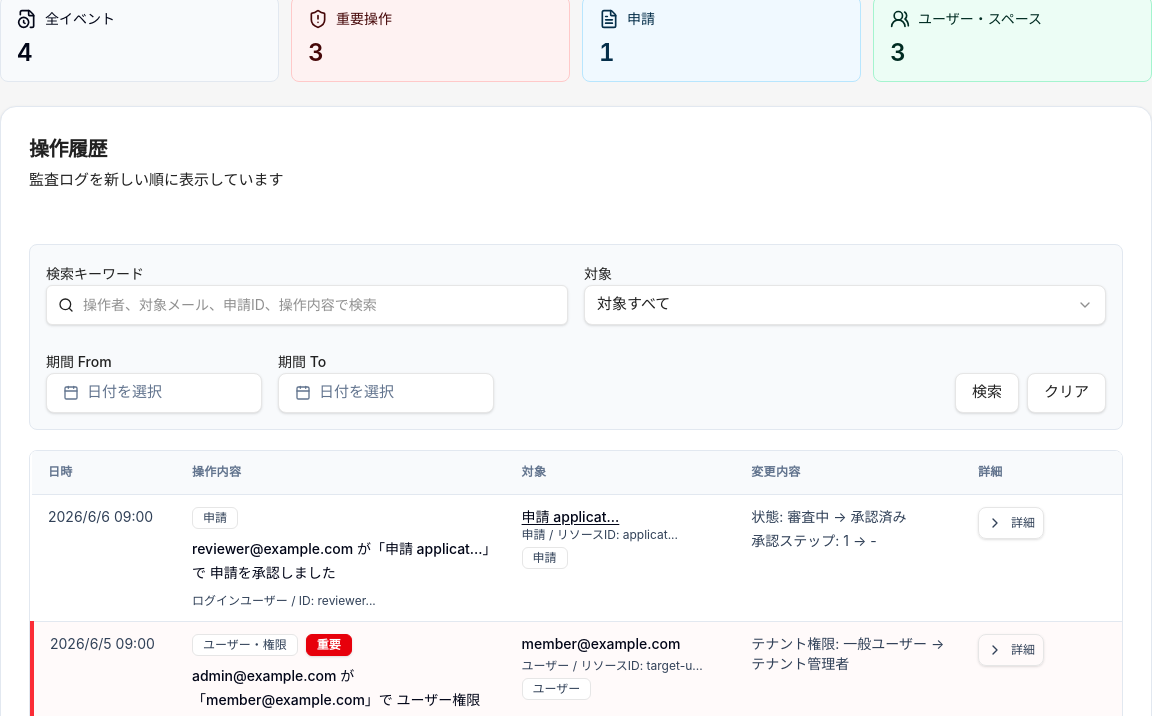
Test: AdminAuditLogsView › renders summary counts, filters, and business audit rows
This screenshot has width=1152, height=716.
Expected: the text "全イベント" is shown, [17, 9, 115, 29]
Expected: the text "重要操作" is shown, [308, 9, 392, 29]
Click the button with aria-label "申請 applicat... の詳細を表示" at (1011,523), box [978, 507, 1044, 539]
(page scrolled)
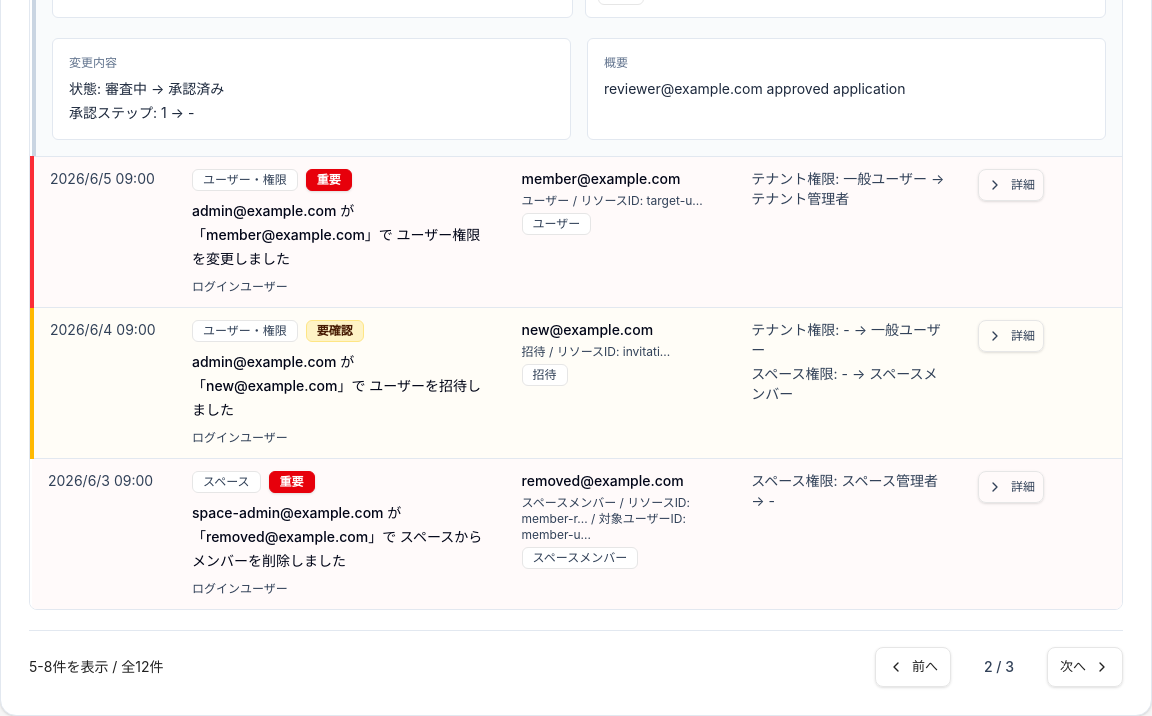
Expected: the text "テナント権限: 一般ユーザー → テナント管理者" is shown, [751, 169, 946, 209]
Expected: the text "変更内容" is shown, [69, 55, 117, 70]
Expected: the text "reviewer@example.com approved application" is shown, [604, 80, 906, 97]
